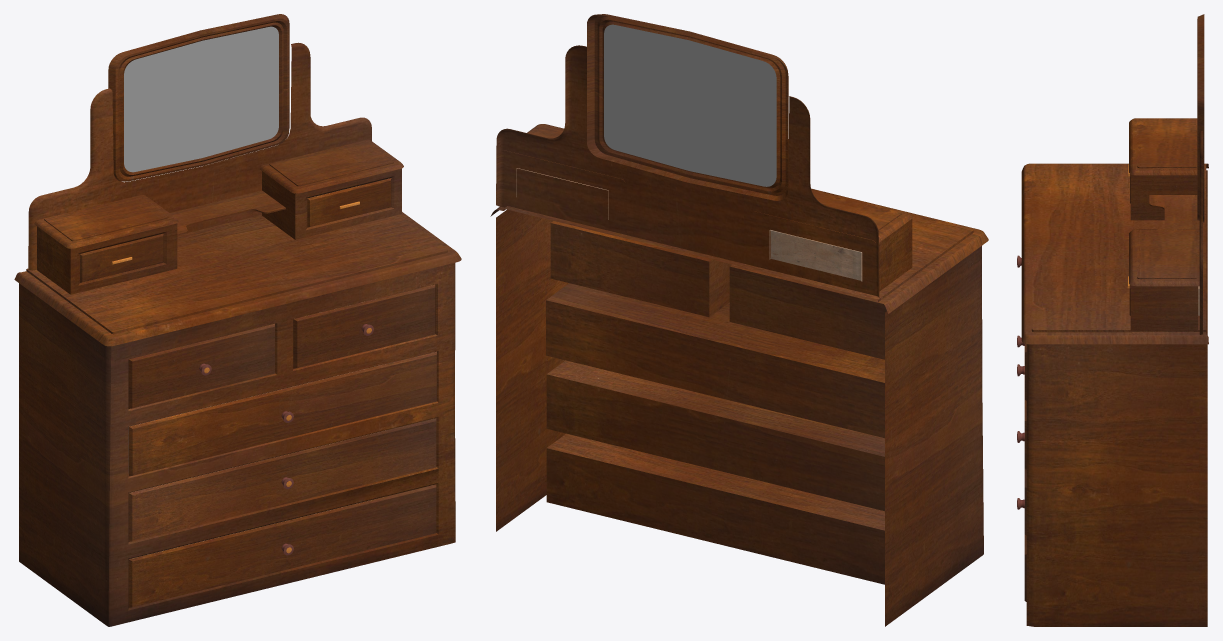
File: commode_2.FBX
3 views of the same model, side by side, from view 1: azimuth 30°, elevation 25°; view 2: azimuth 150°, elevation 25°; view 3: azimuth 270°, elevation 25° (orthographic). The views are drawn at different scales.
Parts seen in each view (by area): view 1: commode_2, commode_2_shelf_large, commode_2_shelf_large.001, commode_2_shelf_large.002, commode_2_shelf, commode_2_shelf.001, commode_2_shelf_top.001, commode_2_shelf_top; view 2: commode_2, commode_2_shelf_top; view 3: commode_2, commode_2_shelf_large.
Boxes of the visible parts, left/top/right/bottom form: commode_2: left=14, top=14, right=461, bottom=626; commode_2_shelf_large: left=128, top=351, right=436, bottom=476; commode_2_shelf_large.001: left=128, top=418, right=436, bottom=541; commode_2_shelf_large.002: left=128, top=484, right=436, bottom=607; commode_2_shelf: left=128, top=323, right=274, bottom=408; commode_2_shelf.001: left=293, top=284, right=435, bottom=368; commode_2_shelf_top.001: left=307, top=178, right=391, bottom=227; commode_2_shelf_top: left=80, top=233, right=163, bottom=282; commode_2: left=490, top=14, right=988, bottom=626; commode_2_shelf_top: left=769, top=230, right=862, bottom=281; commode_2: left=1021, top=14, right=1208, bottom=626; commode_2_shelf_large: left=1017, top=346, right=1026, bottom=469.
Size of the model in its own units: 258 by 336 by 119.
